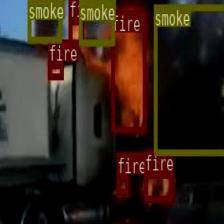fire: (111, 10, 146, 132), (144, 172, 173, 201), (68, 18, 83, 44), (48, 61, 63, 79), (117, 174, 128, 194)
smoke: (153, 4, 224, 154), (78, 0, 114, 45), (27, 0, 61, 42)
